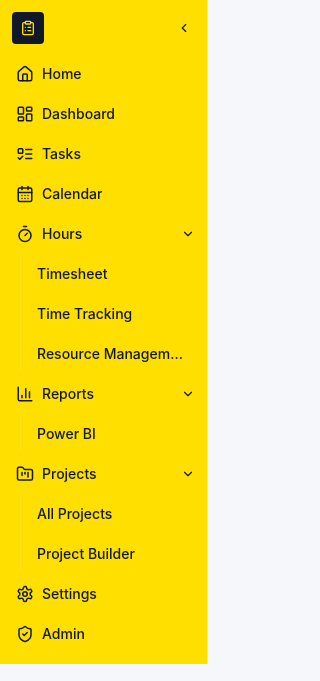
<Sidebar /> (collapsed vs expanded) › toggling the Hours group hides/shows its sub-links
This screenshot has width=320, height=681.
Check: the link "Time Tracking" is shown, box 37,305 -> 132,322
Click the button with test id "sidebar-group-toggle-hours" at (188, 234), box 177,223 -> 199,245
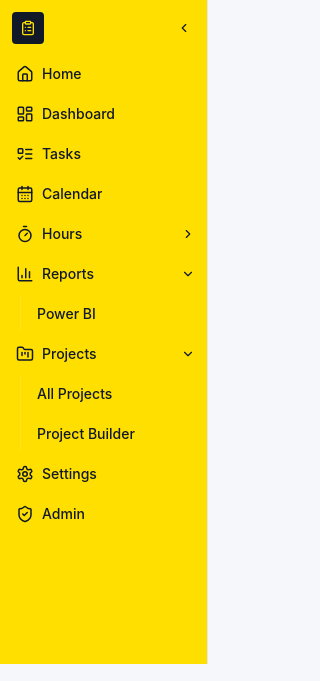
Check: the link "Time Tracking" is gone
Check: the link "Resource Management" is gone
